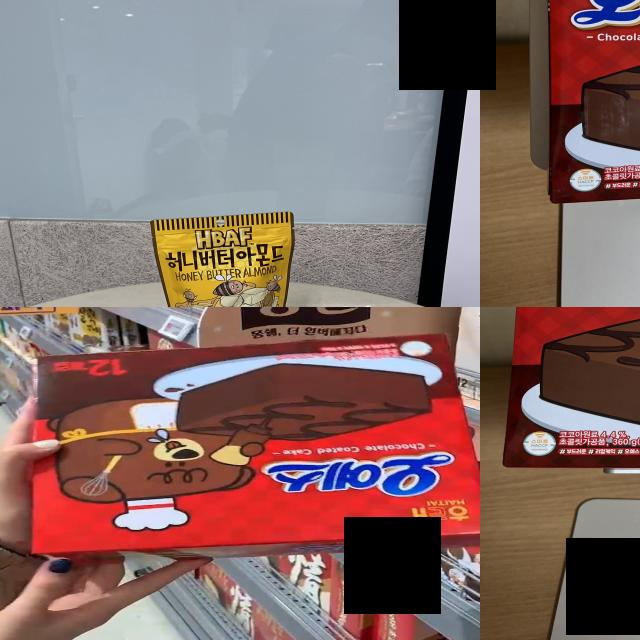honeyAmond: (159, 211, 292, 307)
ohYes: (21, 357, 479, 547), (529, 0, 640, 198), (507, 307, 640, 468)
